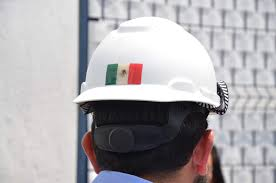Casco de seguridad: (70, 11, 240, 150)
